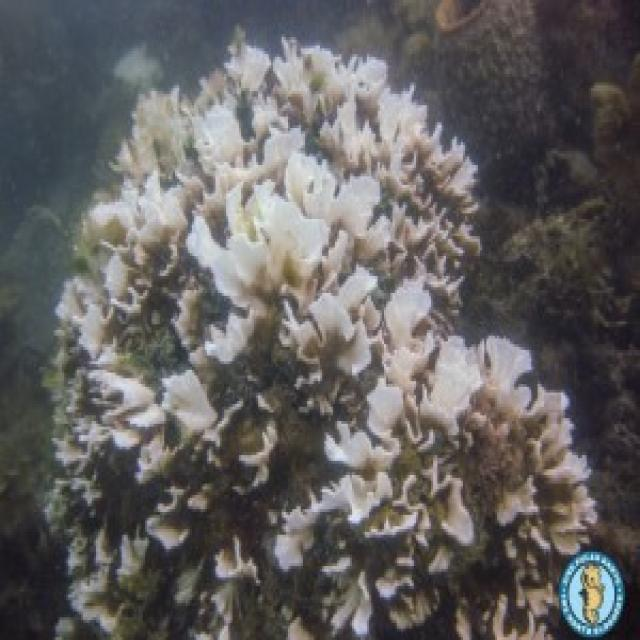Bleached: (44, 33, 597, 640)
Healthy: (426, 1, 551, 141), (182, 479, 274, 543), (278, 392, 324, 496), (95, 443, 140, 541), (466, 422, 519, 493), (205, 362, 297, 402), (459, 438, 521, 496), (446, 545, 509, 600), (236, 573, 284, 640), (119, 593, 177, 639)
